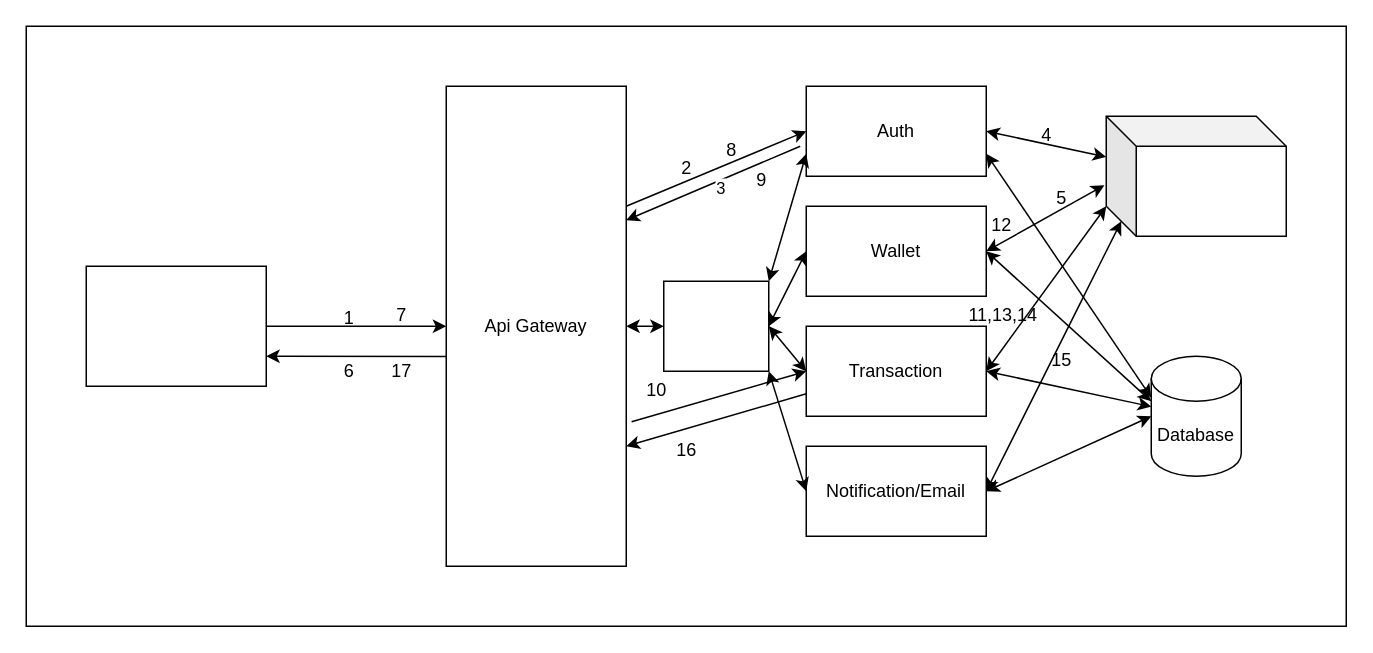
This 1373x653 diagram has some shape labels left out. The shapes that lost their labels are listed below. From the top down, each one's centre as x and y in pixels, then its label:
At point (1195, 175): "Kafka".
At point (175, 325): "Client/Rest".
At point (715, 325): "Eureka".
